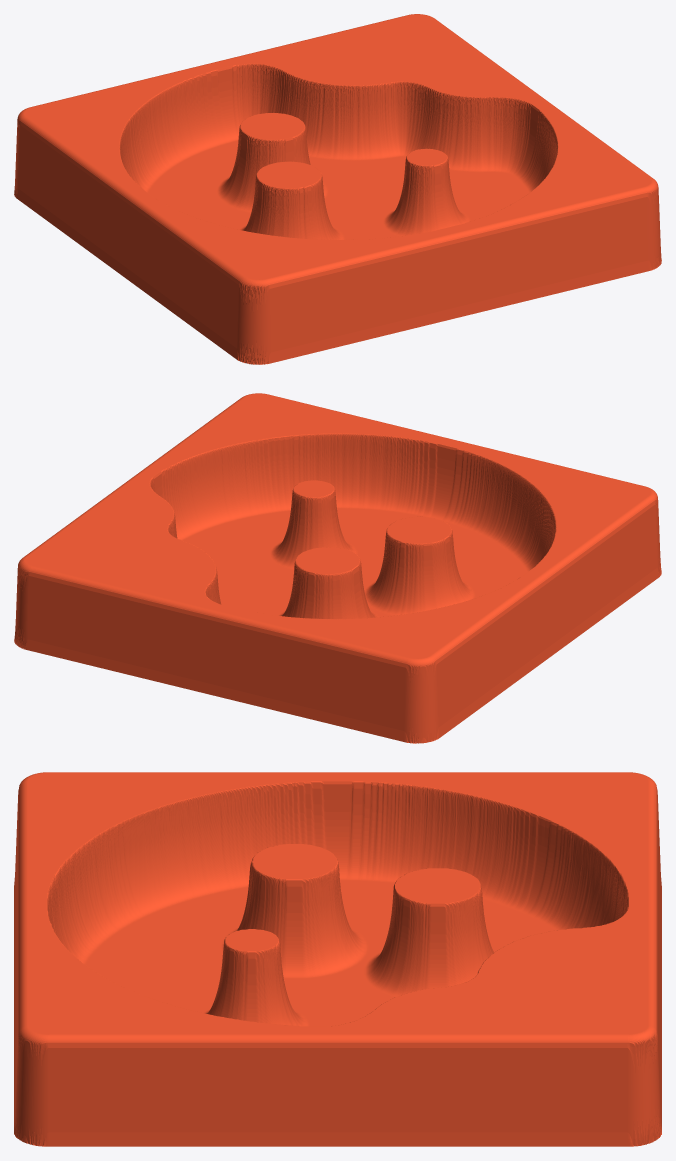
The model's file is mold.glb.
3 views of the same model, one above another, from view 1: azimuth 30°, elevation 25°; view 2: azimuth 150°, elevation 25°; view 3: azimuth 270°, elevation 25° (orthographic). The views are drawn at different scales.
Parts seen in each view (by area): view 1: geometry_0; view 2: geometry_0; view 3: geometry_0.
Boxes of the visible parts, x1,y1,x2,y2 form: geometry_0: [14, 14, 661, 364]; geometry_0: [14, 393, 661, 743]; geometry_0: [14, 772, 661, 1146].
Size of the model in its own units: 0.1703 by 0.031 by 0.1709.
